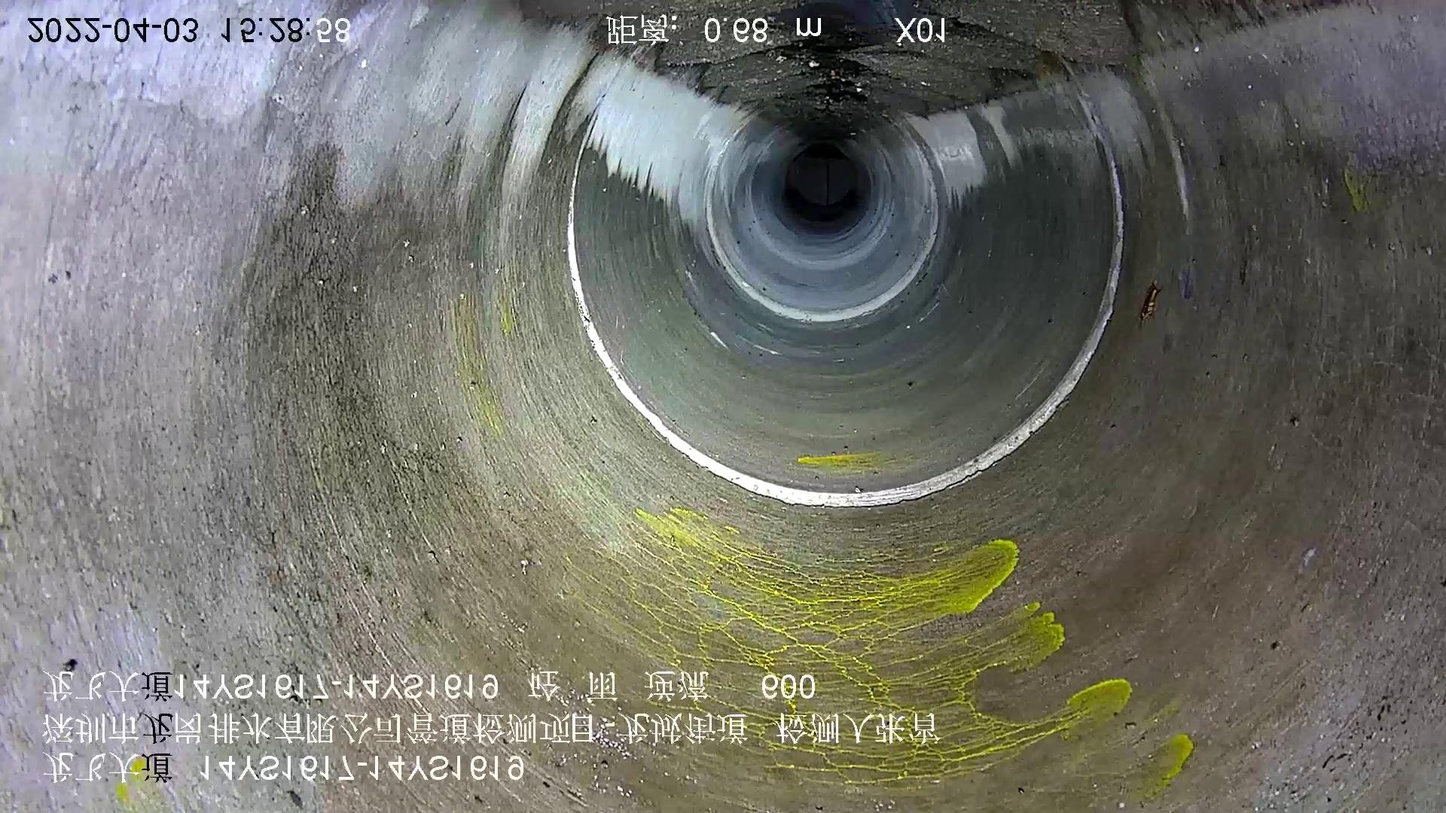CKTJ: (566, 153, 1122, 508), (714, 145, 941, 323)
